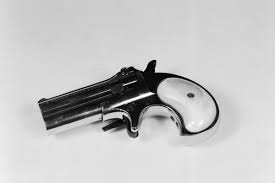gun: (36, 56, 224, 144)
